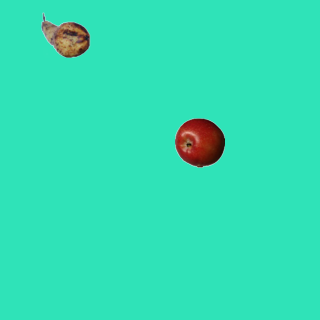Apple Braeburn: (174, 117, 224, 167)
Pear Abate: (40, 10, 90, 60)
